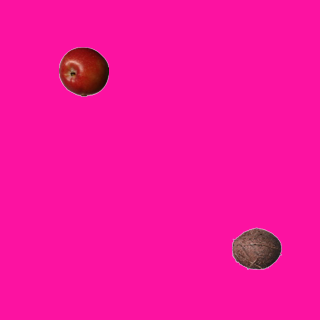Apple Braeburn: (58, 46, 108, 96)
Cocos: (231, 223, 281, 273)
